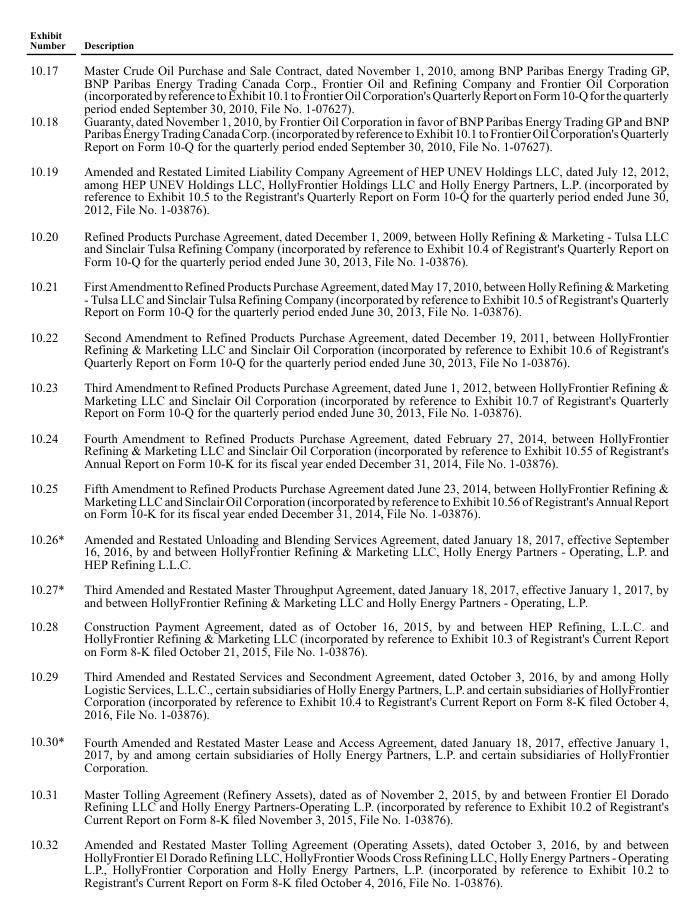table: (28, 28, 668, 888)
table column: (74, 28, 668, 888), (28, 28, 74, 888)
table column header: (28, 28, 668, 56)
table row: (28, 158, 668, 222), (28, 663, 668, 727), (28, 56, 668, 114), (28, 831, 668, 888), (28, 727, 668, 780), (28, 222, 668, 273), (28, 323, 668, 374), (28, 424, 668, 475), (28, 525, 668, 576), (28, 780, 668, 831), (28, 273, 668, 323), (28, 374, 668, 424), (28, 475, 668, 525), (28, 613, 668, 663), (28, 114, 668, 158), (28, 576, 668, 613), (28, 28, 668, 56)
